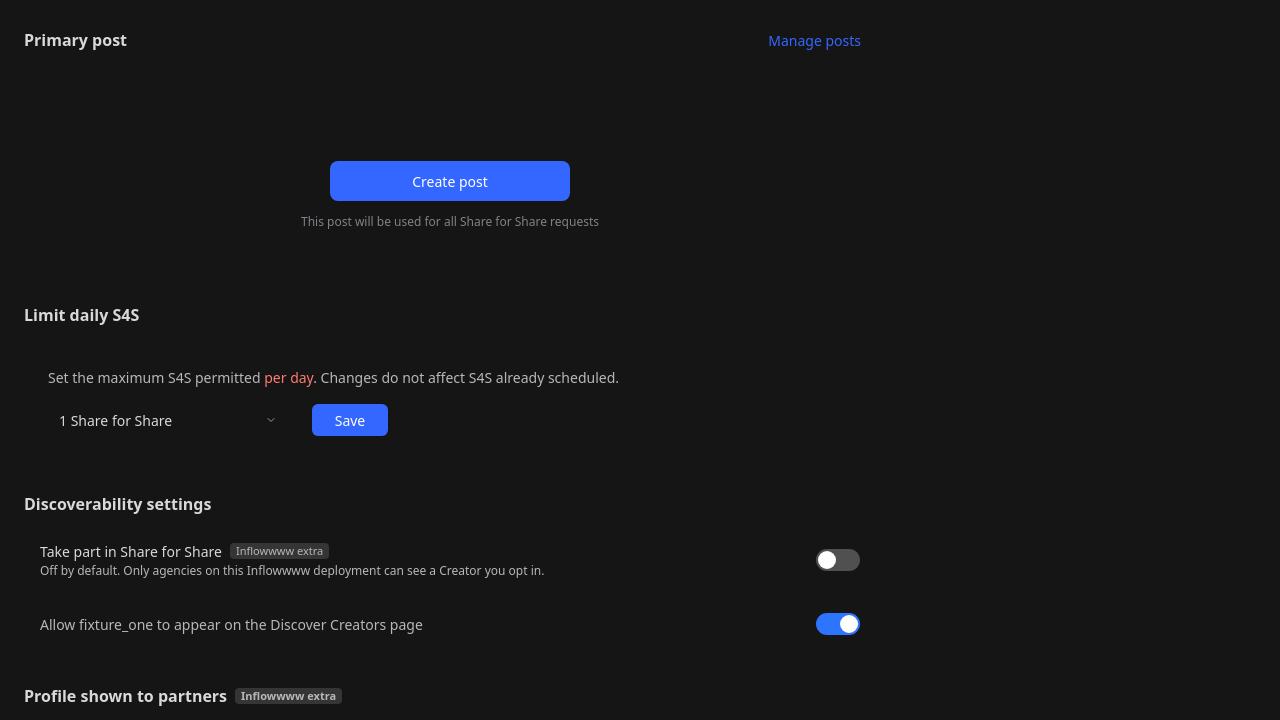
Test: S4SSettingPanel › Create post opens the pop-up
Click the button "Create post". click: (450, 181)
box: [330, 161, 570, 201]
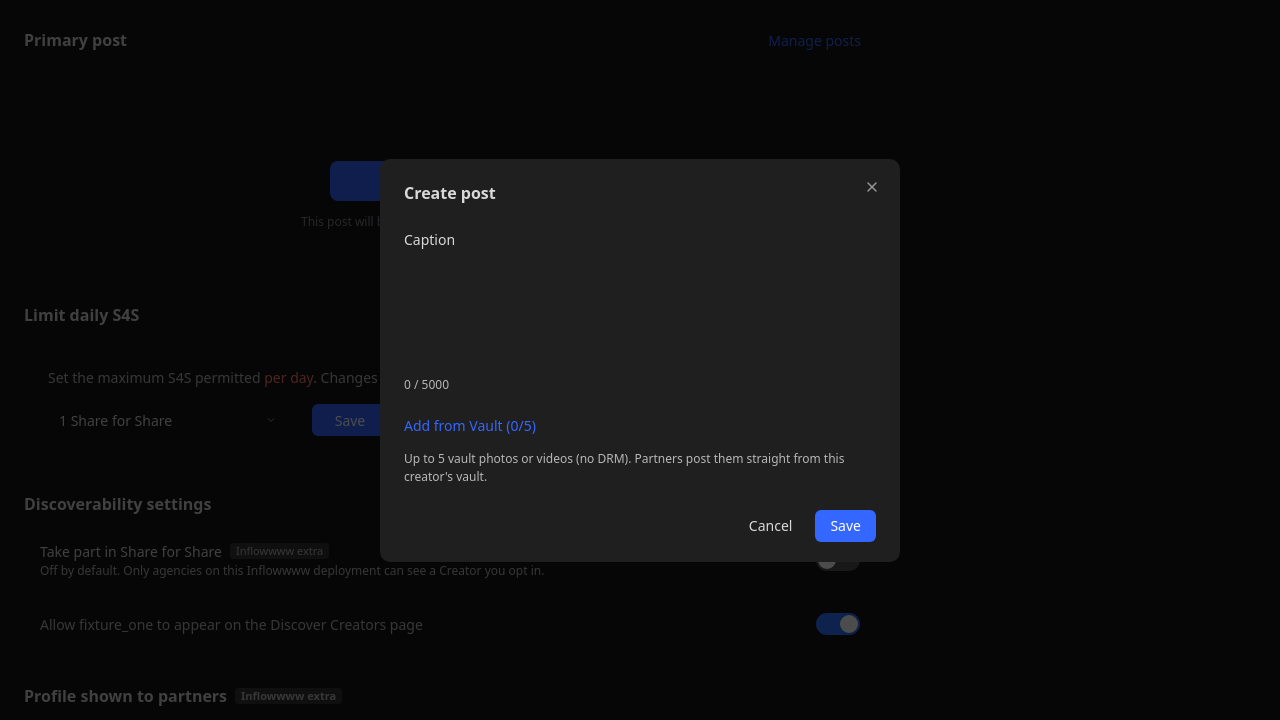
Type "A brand new promo" into the text box labelled "Caption". click: (504, 308)
box: [404, 250, 605, 366]
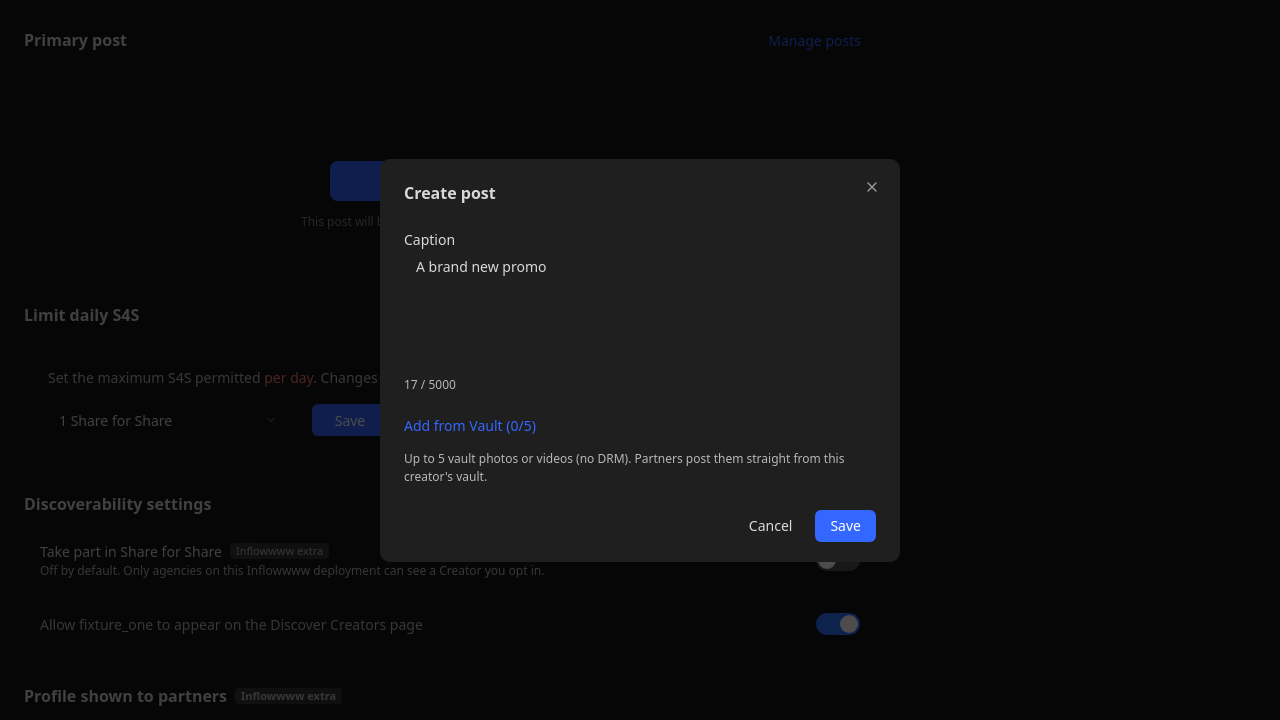
Click the button "Save". click: (846, 526)
box: [815, 510, 876, 542]
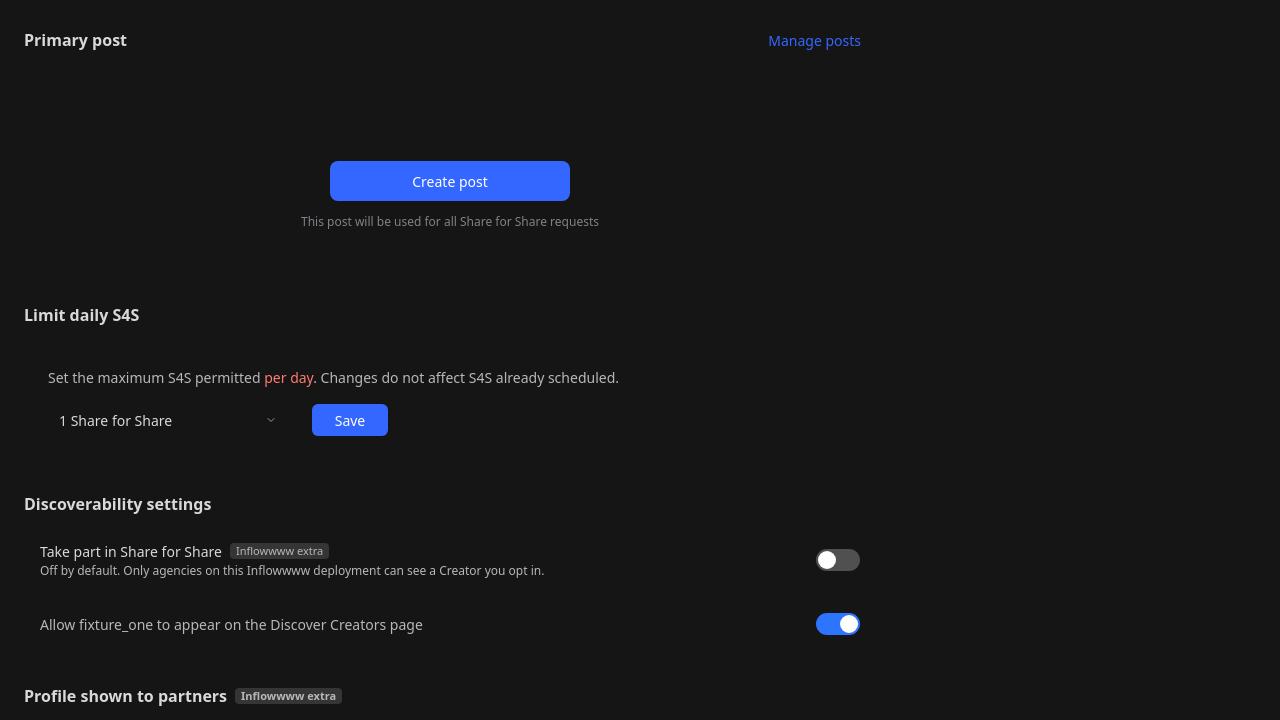
Expected: the dialog is gone
